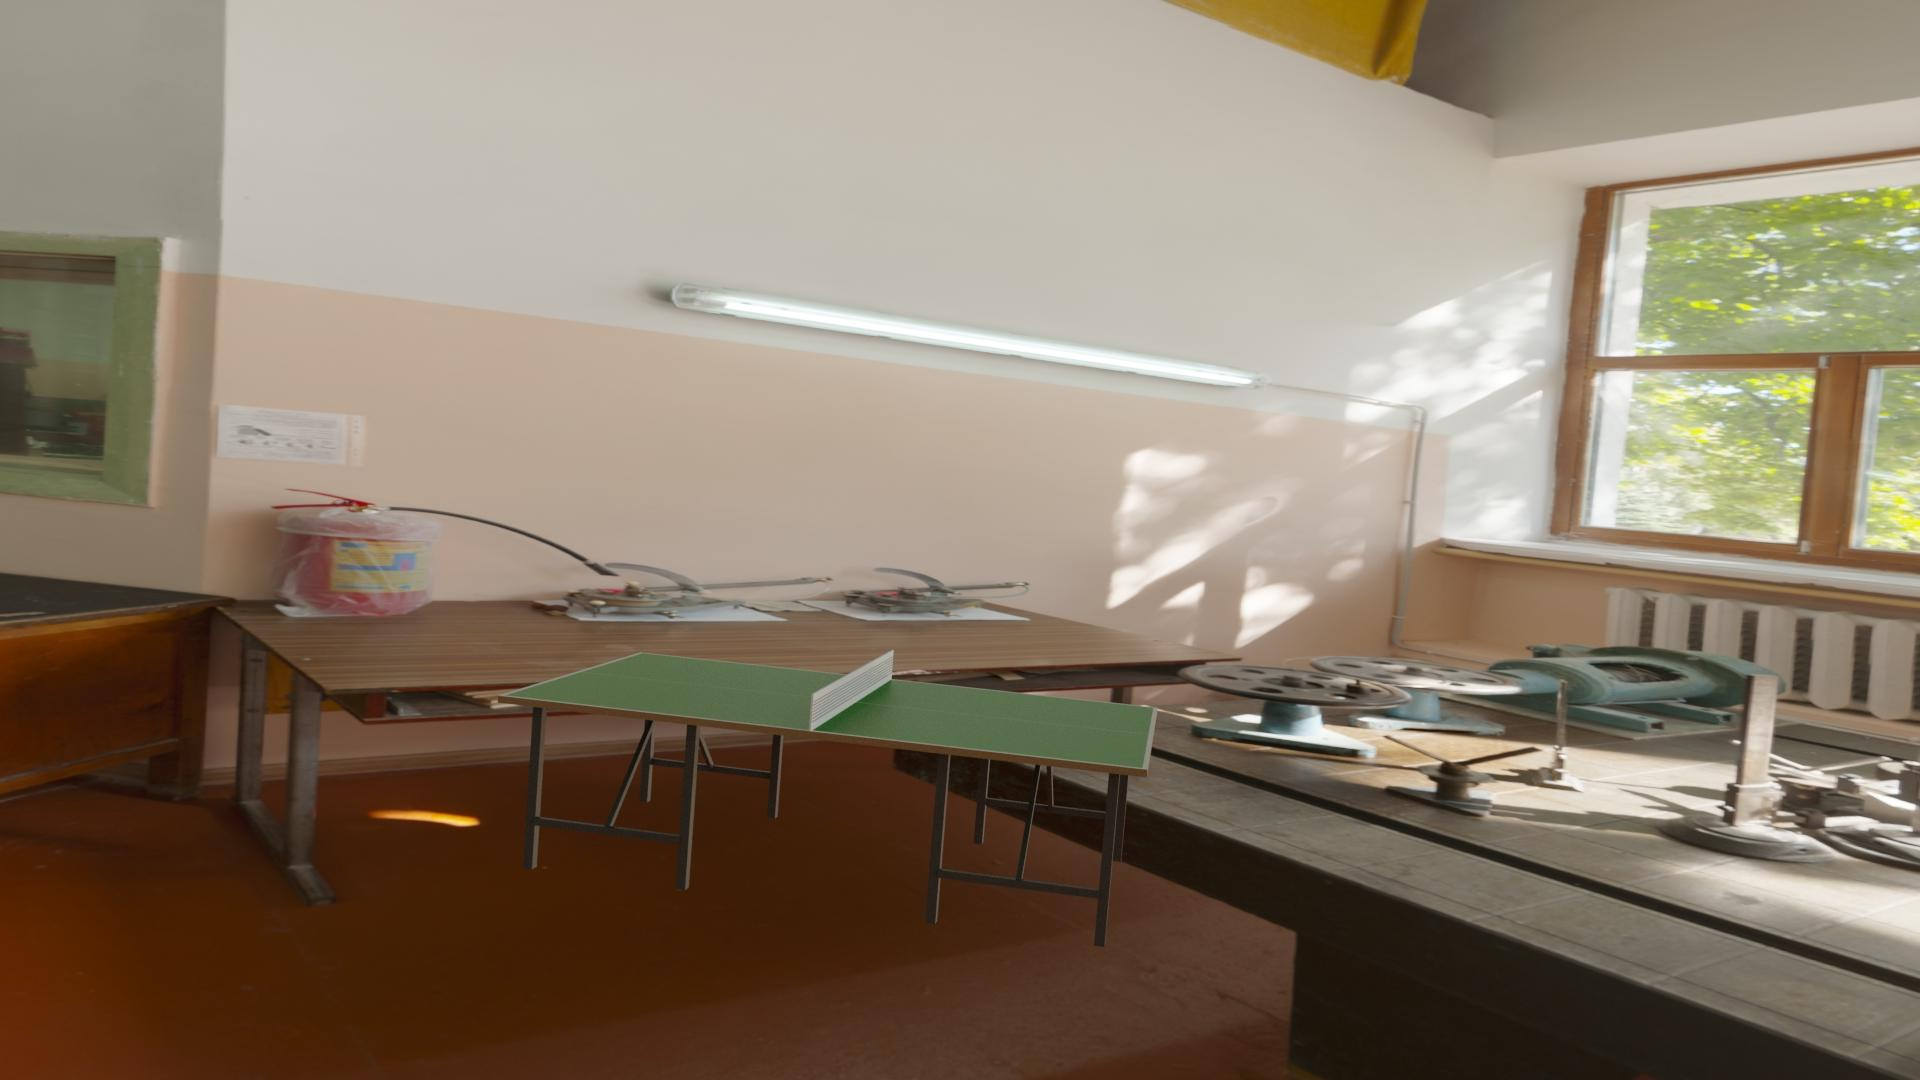table: (505, 653, 1154, 767)
